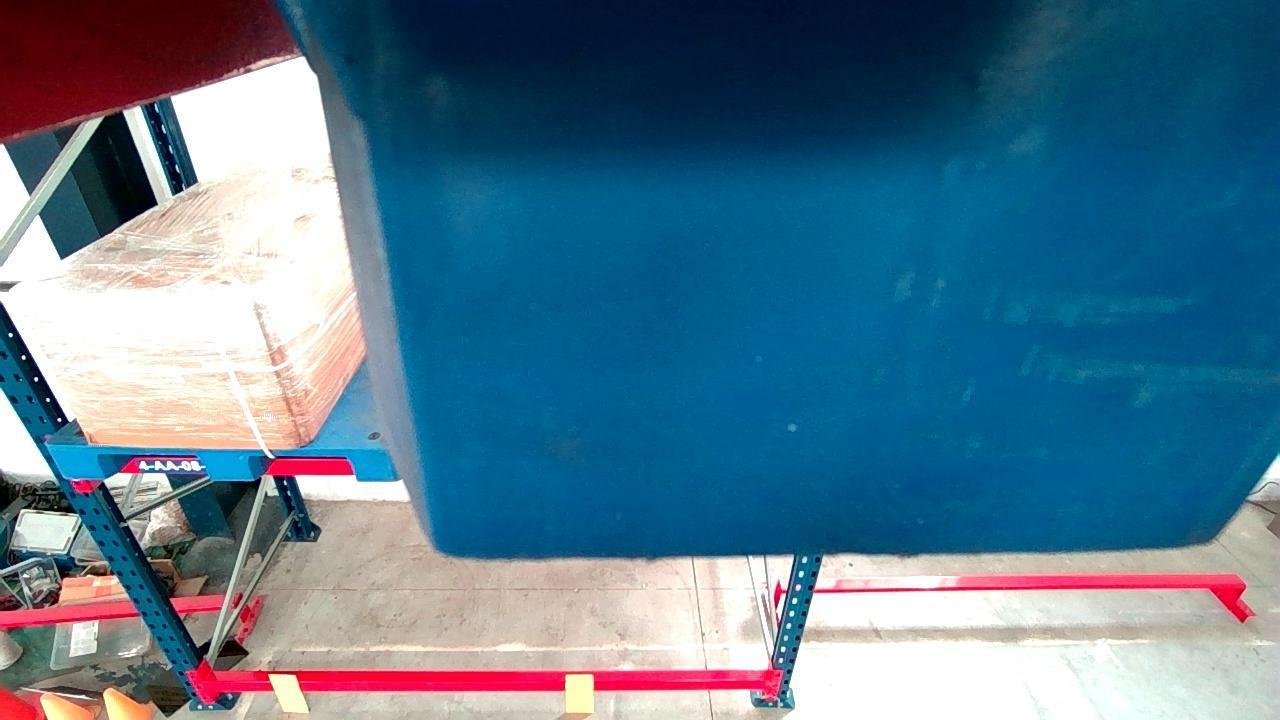h_rack: (204, 677, 767, 691), (110, 455, 396, 477)
orange_strip: (263, 673, 308, 711), (562, 670, 593, 712)
small_pallet: (47, 444, 396, 480)
